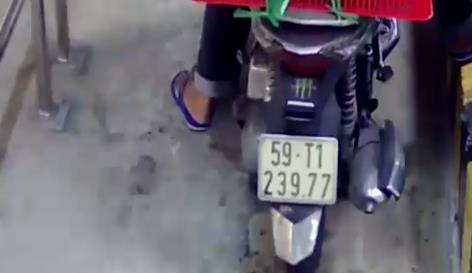lisence: (256, 132, 338, 208)
